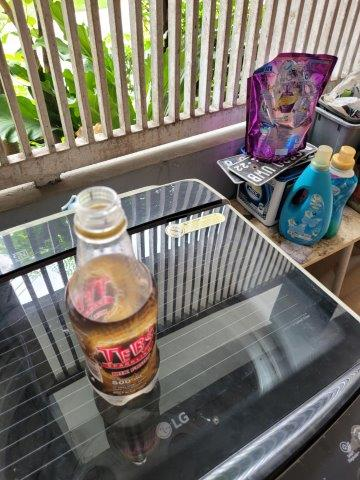botolplastik: (63, 184, 160, 405)
